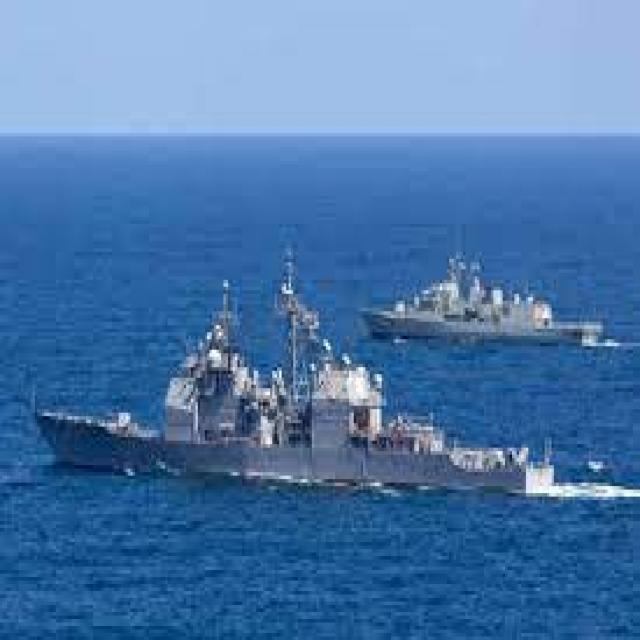navalvessels: (24, 280, 562, 519), (353, 251, 595, 362)
